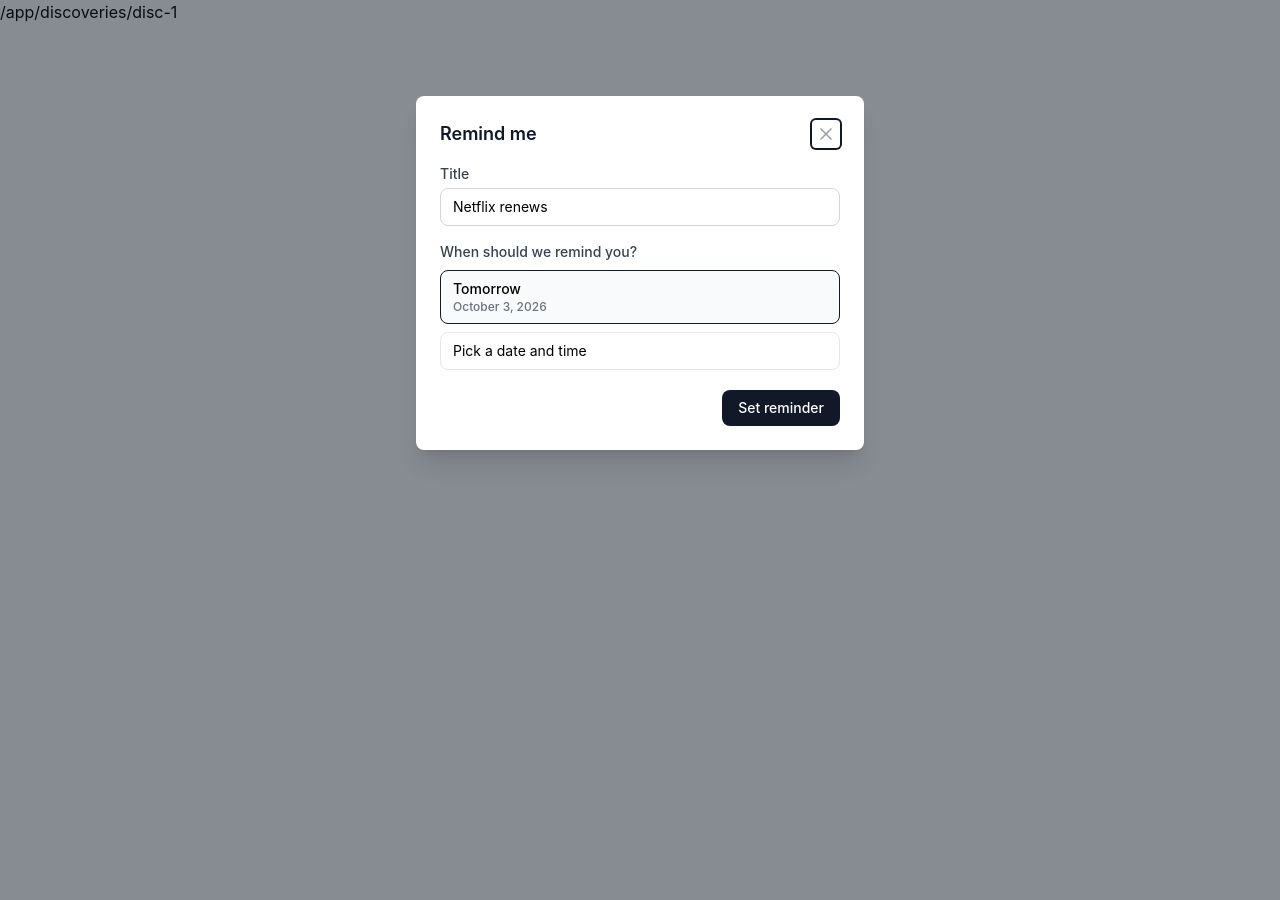
ReminderModal — Pro user › shows the backend error inline and keeps the modal open
Expected: the element with test id "reminder-form" is shown, [440,164,840,426]
Click the button with test id "reminder-submit" at (781, 408), box [722,390,840,426]
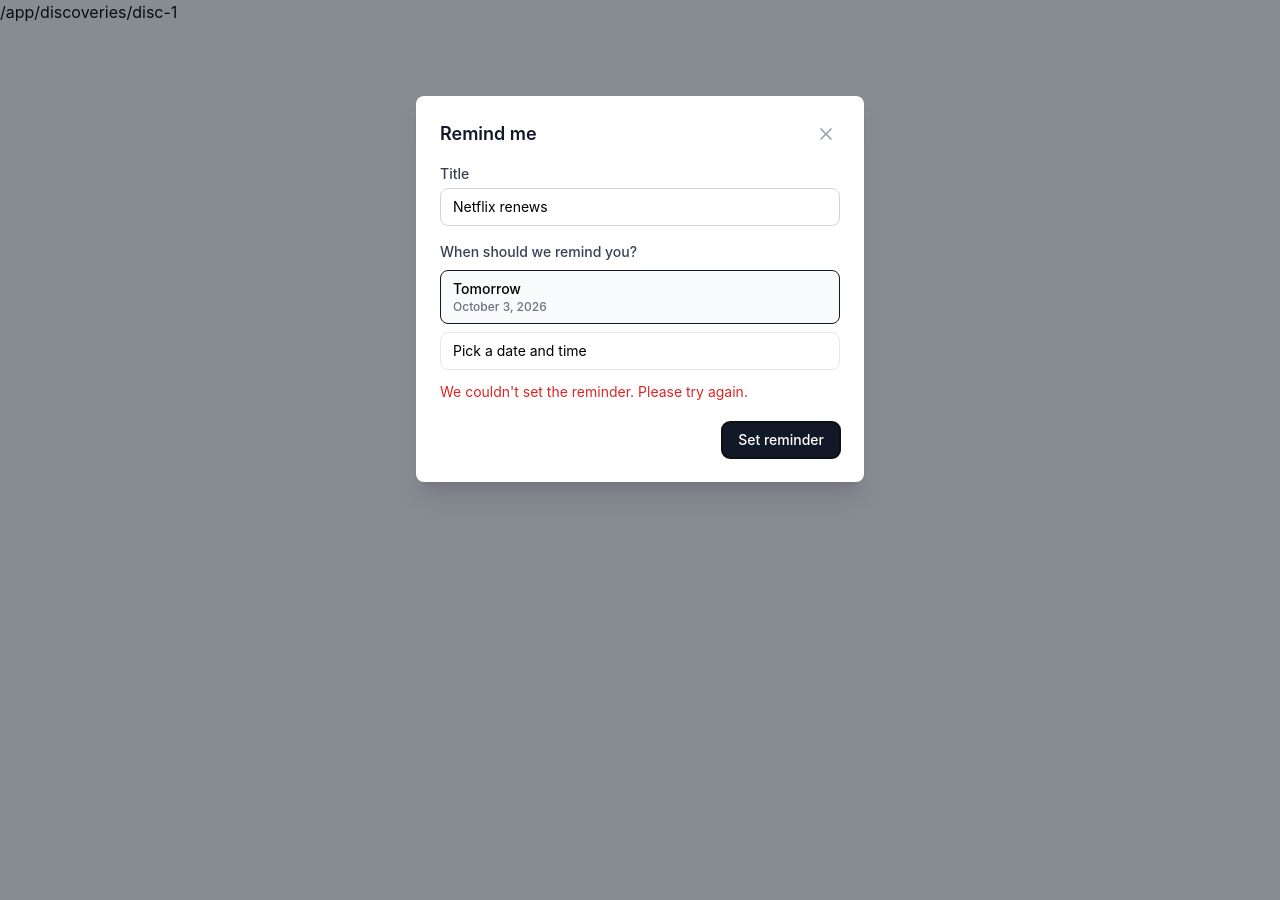
Now the message with test id "reminder-error" reads "We couldn't set the reminder. Please try again.", box [440,383,748,400]
